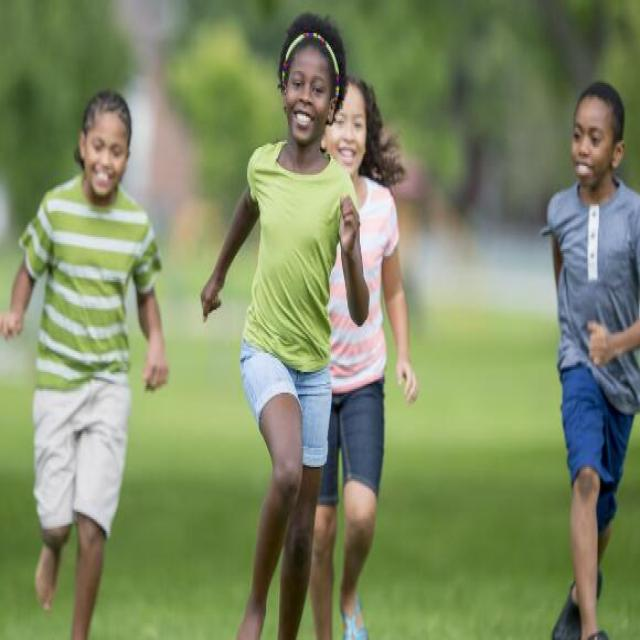Person: (201, 12, 369, 640), (0, 87, 168, 640), (309, 76, 419, 640), (539, 79, 640, 640)
